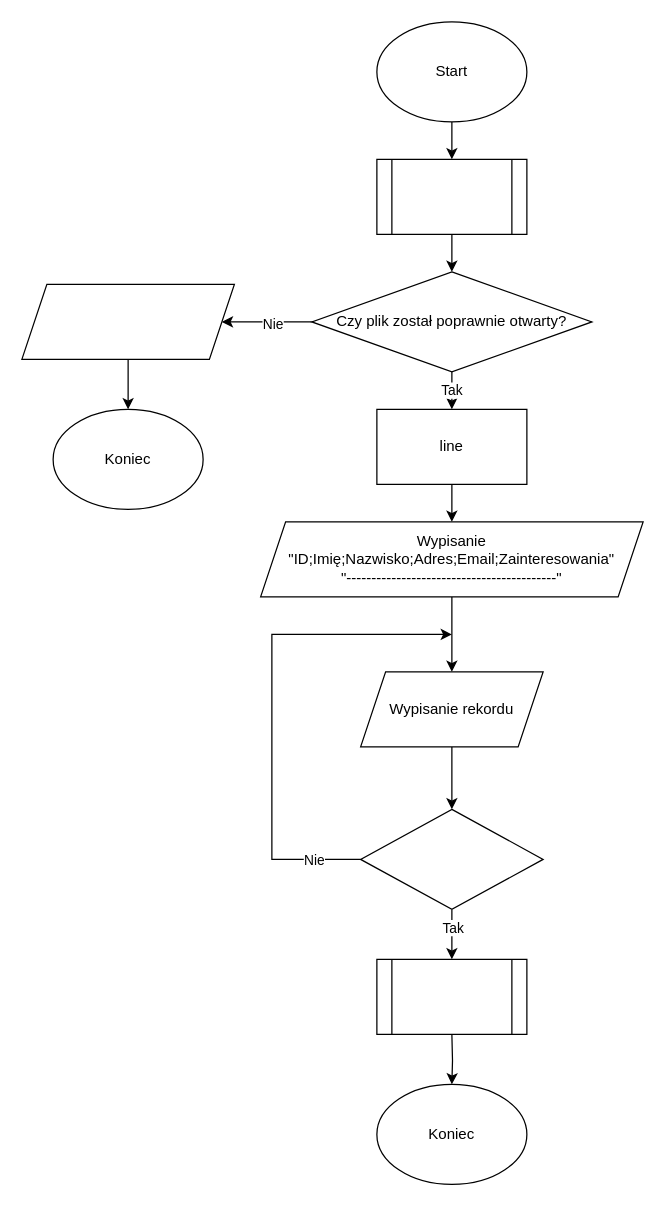
This 665x1206 diagram has some shape labels left out. Each missing label, with the centre of its shape:
Czy wypisano wszystkie dane z pliku?: (x=451, y=858)
Otwarcie pliku "database.txt": (x=451, y=196)
Wypisanie "Wystąpił problem z plikiem": (x=127, y=321)
Zamknięcie pliku: (x=451, y=996)
